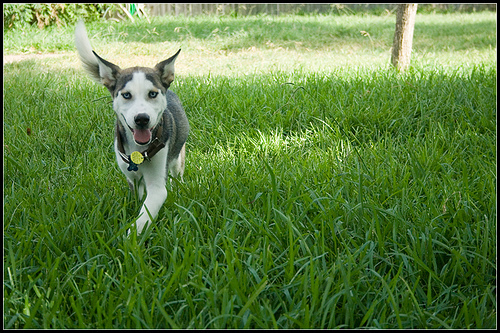dog: (72, 18, 191, 237)
